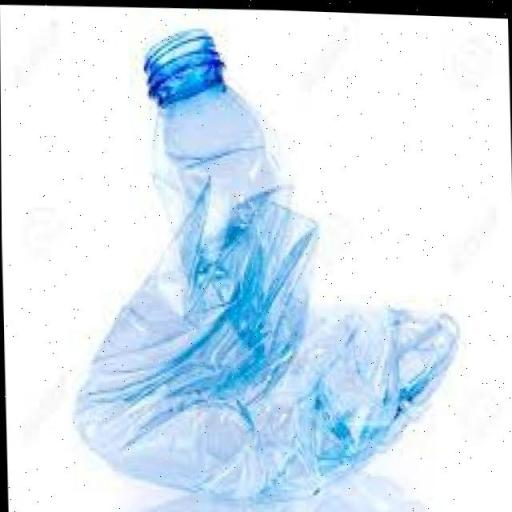plastic: (54, 16, 472, 500)
